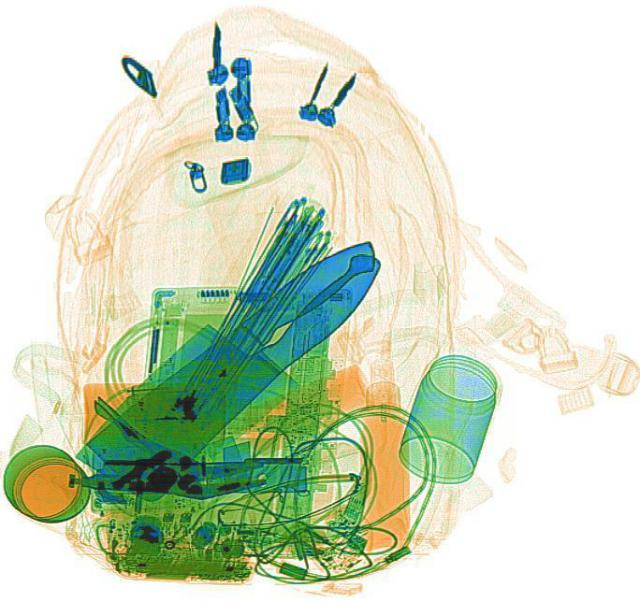Knife: (67, 210, 396, 509), (80, 218, 418, 507)
